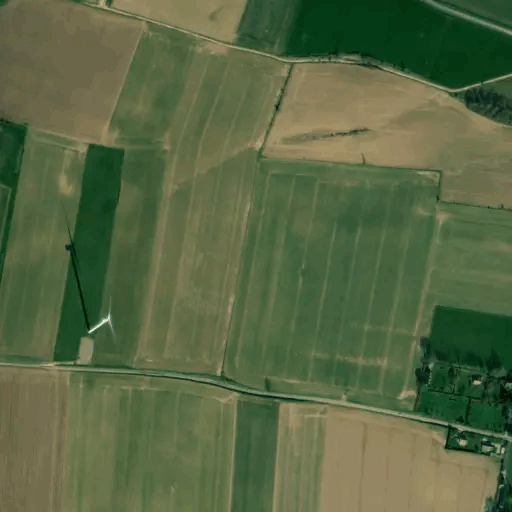wt: (46, 190, 131, 348)
